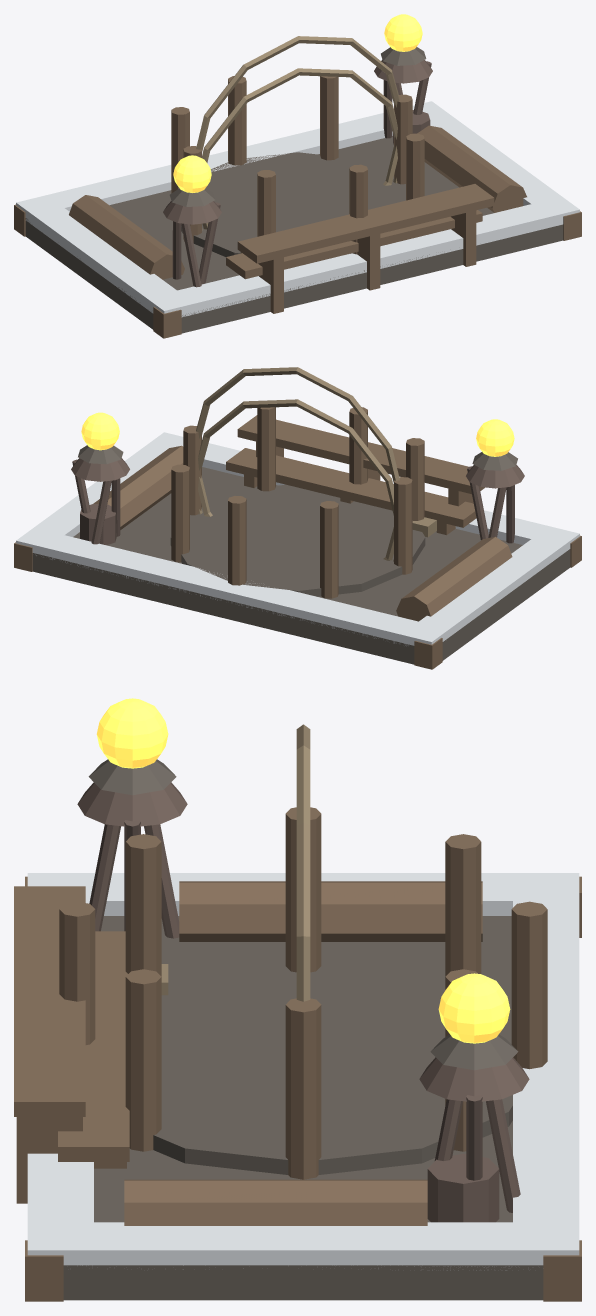
The model's file is fighting_arena.glb.
The picture shows the model from 3 angles, top to bottom: view 1: azimuth 30°, elevation 25°; view 2: azimuth 150°, elevation 25°; view 3: azimuth 270°, elevation 25°; orthographic projection. The views are drawn at different scales.
Parts seen in each view (by area): view 1: fighting_arena_Building; view 2: fighting_arena_Building; view 3: fighting_arena_Building.
Boxes of the visible parts, left/top/right/bottom form: fighting_arena_Building: left=14, top=14, right=581, bottom=338; fighting_arena_Building: left=14, top=367, right=581, bottom=669; fighting_arena_Building: left=14, top=698, right=581, bottom=1301.
Size of the model in its own units: 3.26 by 1.93 by 2.06.
